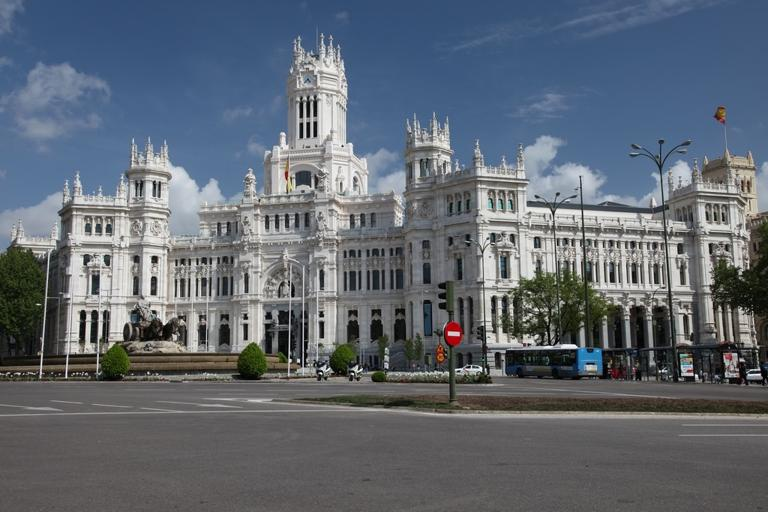non-vehicle: (312, 357, 332, 382), (345, 360, 364, 383)
